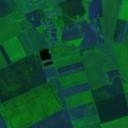alloviz: (38, 47, 52, 61), (42, 60, 53, 67)
